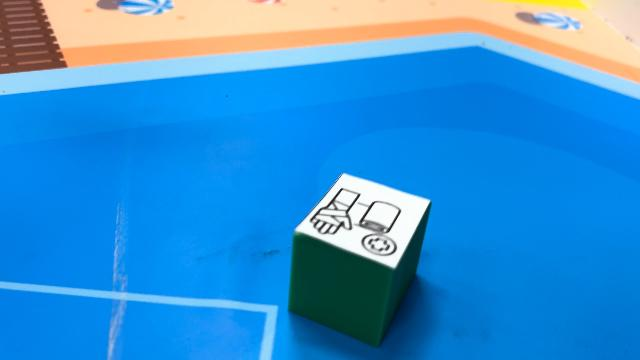bandage: (286, 172, 432, 346)
